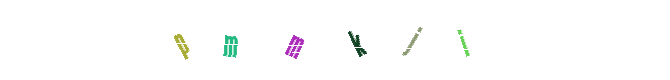I: (317, 0, 397, 80)
J: (295, 0, 375, 80)
K: (291, 0, 371, 80)
M: (254, 0, 334, 80), (271, 0, 351, 80)
P: (190, 0, 270, 80)
